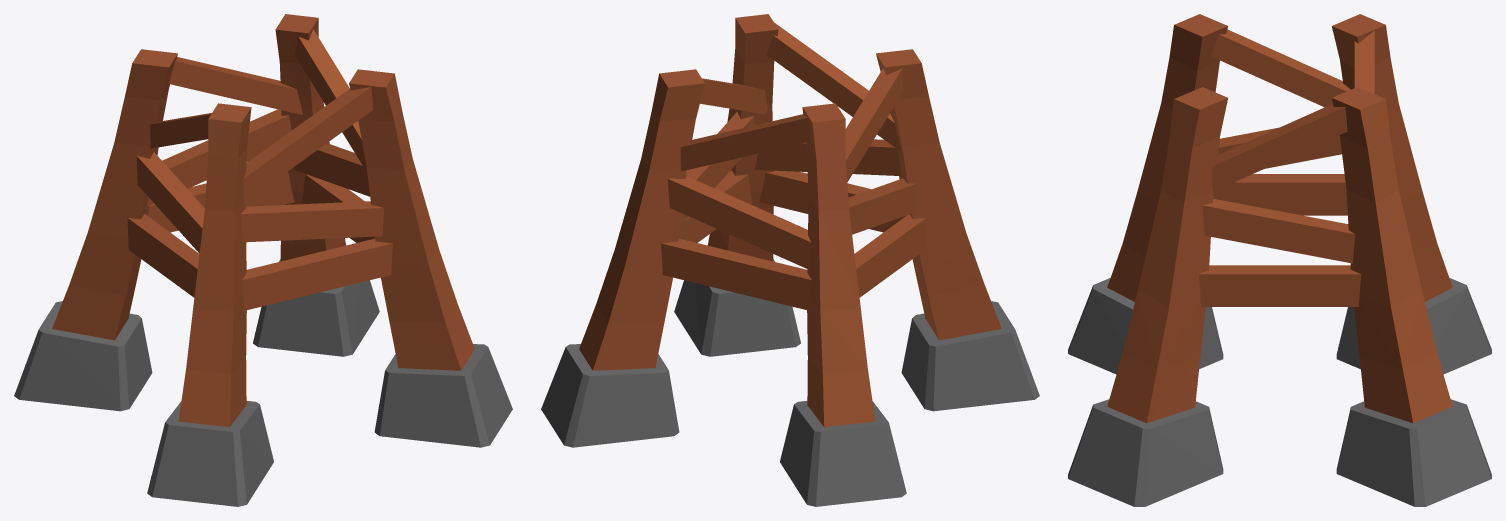
File: Prop_Building_Savage_Tribal_Timber_Tower_Base_Support_Beam_01.FBX
3 renders of one model, left to right at view 1: azimuth 30°, elevation 25°; view 2: azimuth 150°, elevation 25°; view 3: azimuth 270°, elevation 25°, orthographic. The views are drawn at different scales.
Parts seen in each view (by area): view 1: Prop_Building_Savage_Tribal_Timber_Tower_Base_Support_Beam_0; view 2: Prop_Building_Savage_Tribal_Timber_Tower_Base_Support_Beam_0; view 3: Prop_Building_Savage_Tribal_Timber_Tower_Base_Support_Beam_0.
Part boxes in pixels (left/top/right/bottom): Prop_Building_Savage_Tribal_Timber_Tower_Base_Support_Beam_0: left=14, top=14, right=512, bottom=506; Prop_Building_Savage_Tribal_Timber_Tower_Base_Support_Beam_0: left=541, top=14, right=1039, bottom=506; Prop_Building_Savage_Tribal_Timber_Tower_Base_Support_Beam_0: left=1068, top=14, right=1491, bottom=506.
Size of the model in its own units: 7657 by 6781 by 7393.
